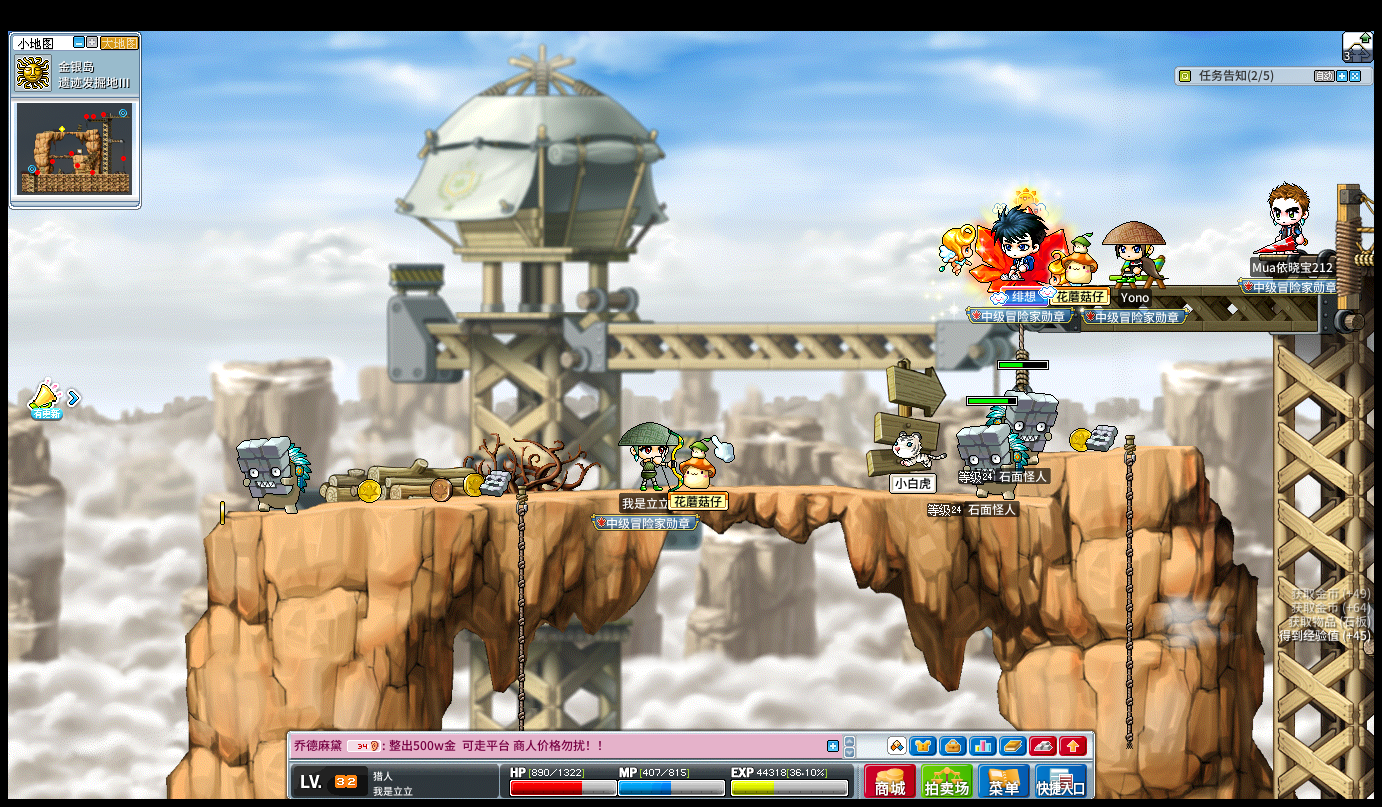floor: (212, 481, 1104, 506), (1047, 444, 1199, 458)
monster: (235, 435, 312, 514), (964, 415, 1053, 479), (955, 423, 1027, 496), (1001, 390, 1059, 451)
rope: (1121, 436, 1136, 791), (515, 485, 527, 679)
